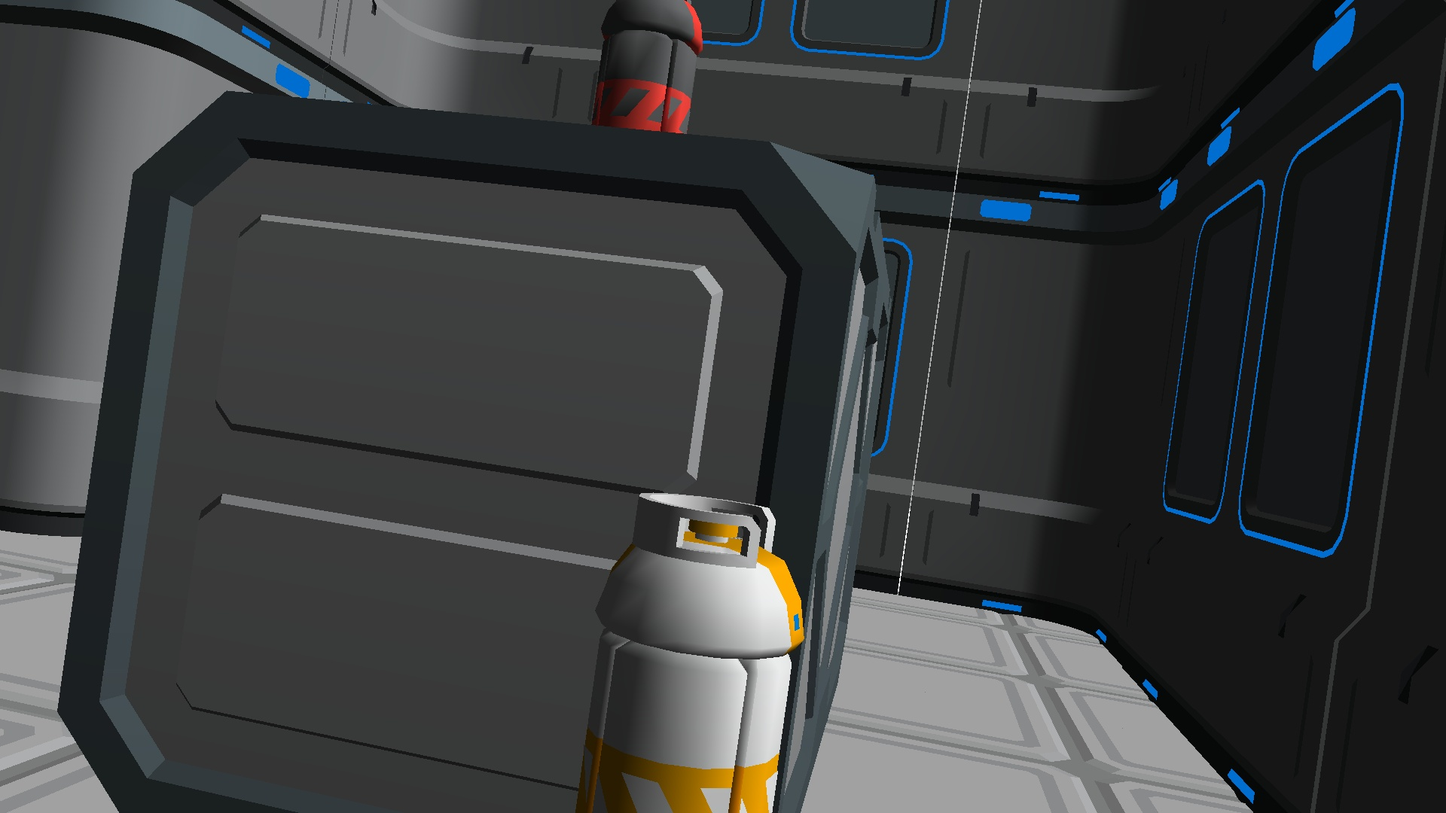red barrel: (592, 0, 703, 134)
yellow barrel: (575, 494, 805, 813)
